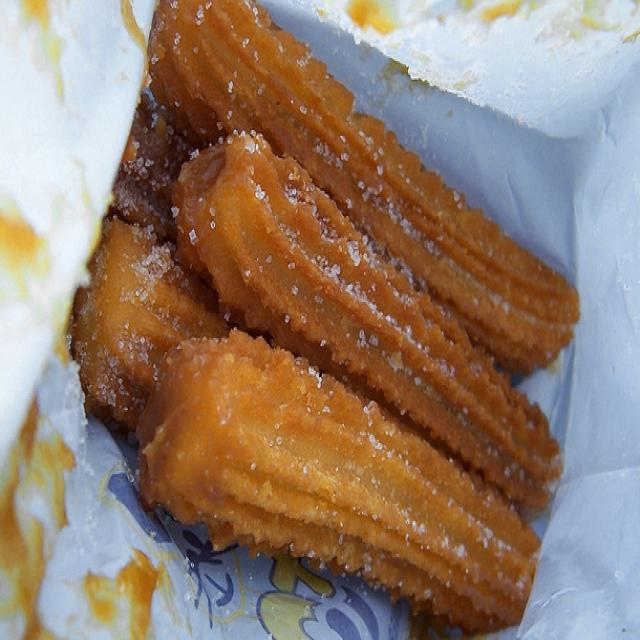炸货点心: (58, 12, 579, 626)
